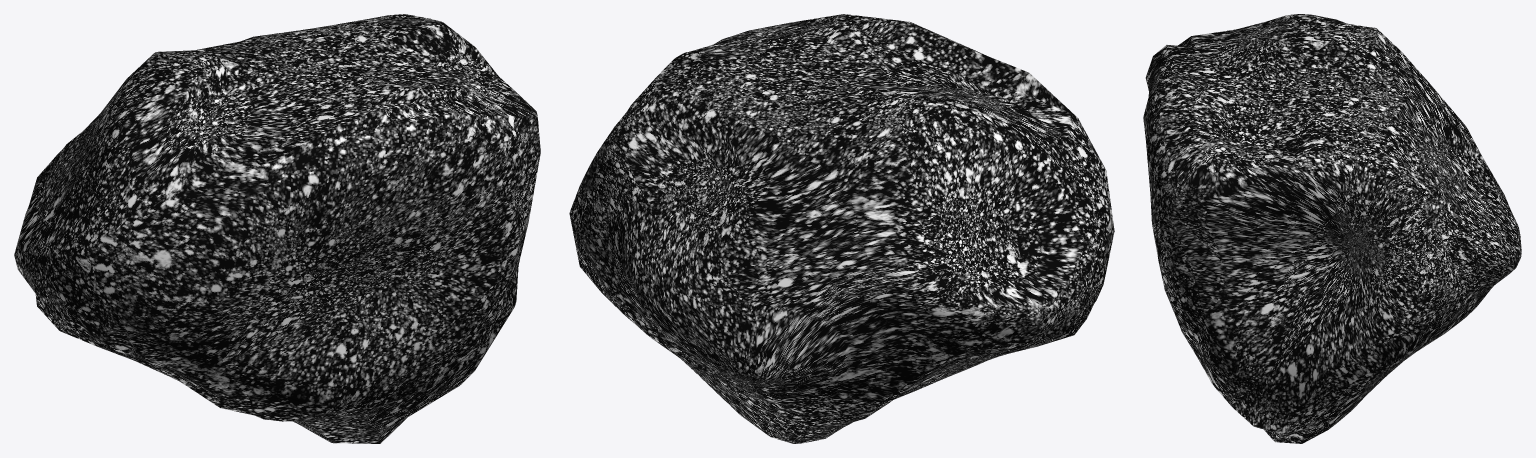
The model's file is asteroid2.fbx.
The picture shows the model from 3 angles, left to right: view 1: azimuth 30°, elevation 25°; view 2: azimuth 150°, elevation 25°; view 3: azimuth 270°, elevation 25°; orthographic projection. The views are drawn at different scales.
Parts seen in each view (by area): view 1: Retopo_Cube; view 2: Retopo_Cube; view 3: Retopo_Cube.
Boxes of the visible parts, <box> form: Retopo_Cube: <box>14,14,540,443</box>; Retopo_Cube: <box>569,14,1114,443</box>; Retopo_Cube: <box>1143,14,1521,443</box>.
Bounding box in the file's own units: 1688 × 1332 × 1321.
